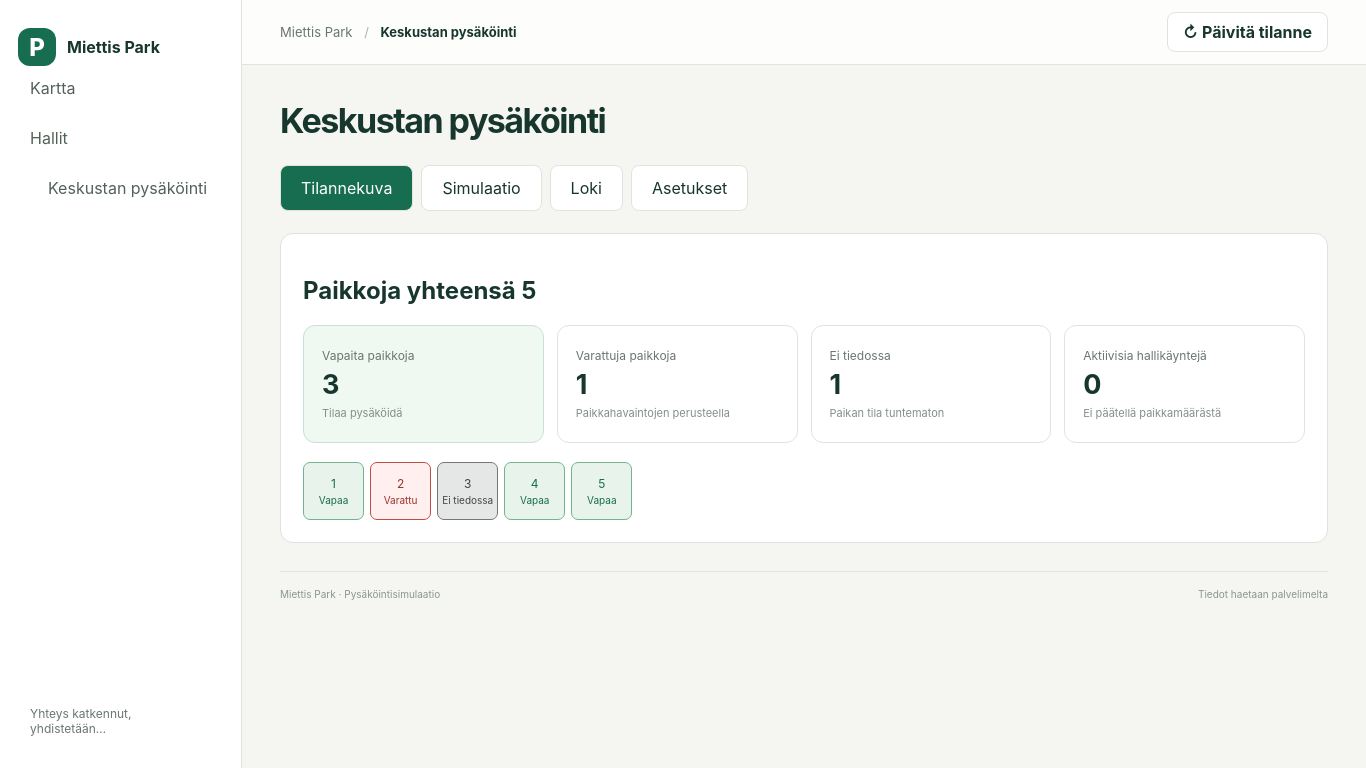
starts with overview and exposes garage navigation and the four detail tabs
The image size is (1366, 768).
Expected: the panel shows "Paikkoja yhteensä 5", [303,276,536,305]
Expected: the link to "/" reads "Kartta", [30,78,76,98]
Click the tab with id "tab-simulation" at (482, 188), box [421,165,542,211]
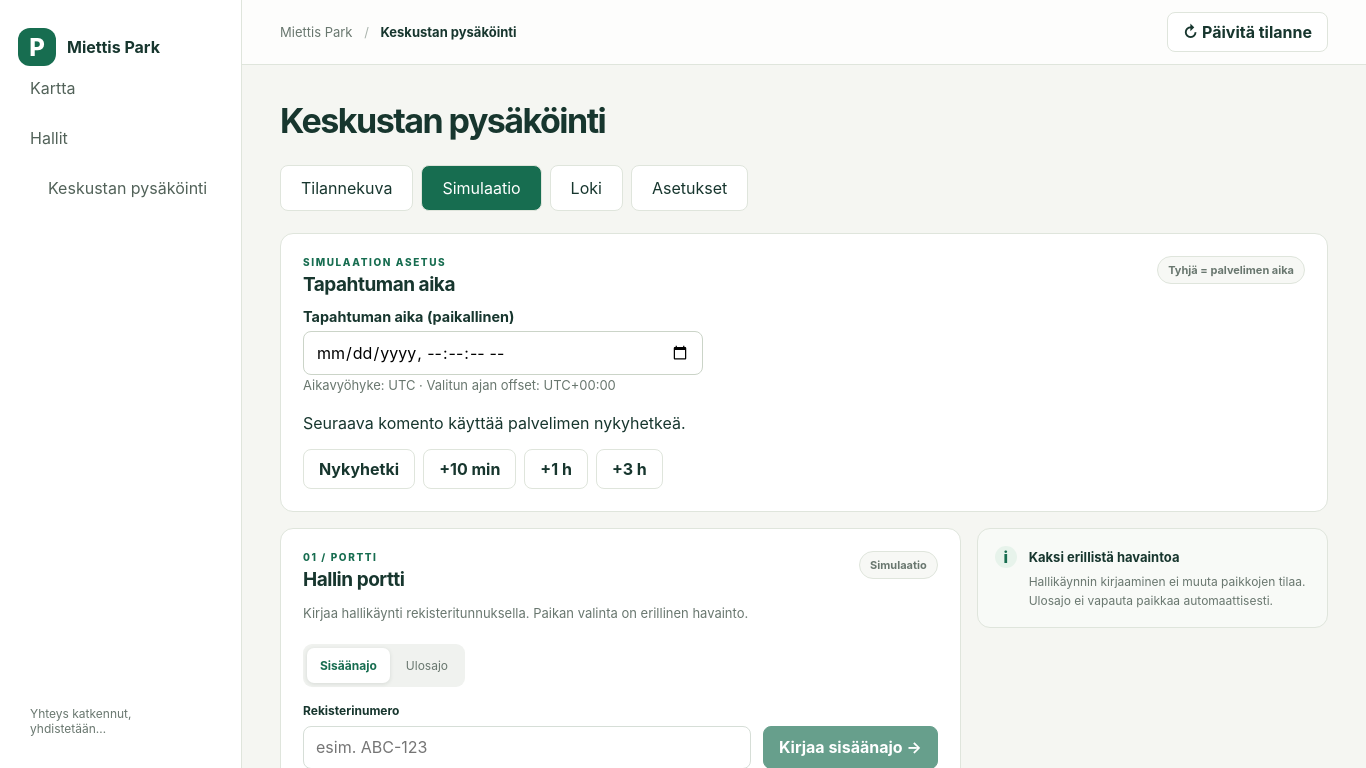
Type "TOAST-1" into the field with id "license-number" at (527, 747), box [303,726,751,767]
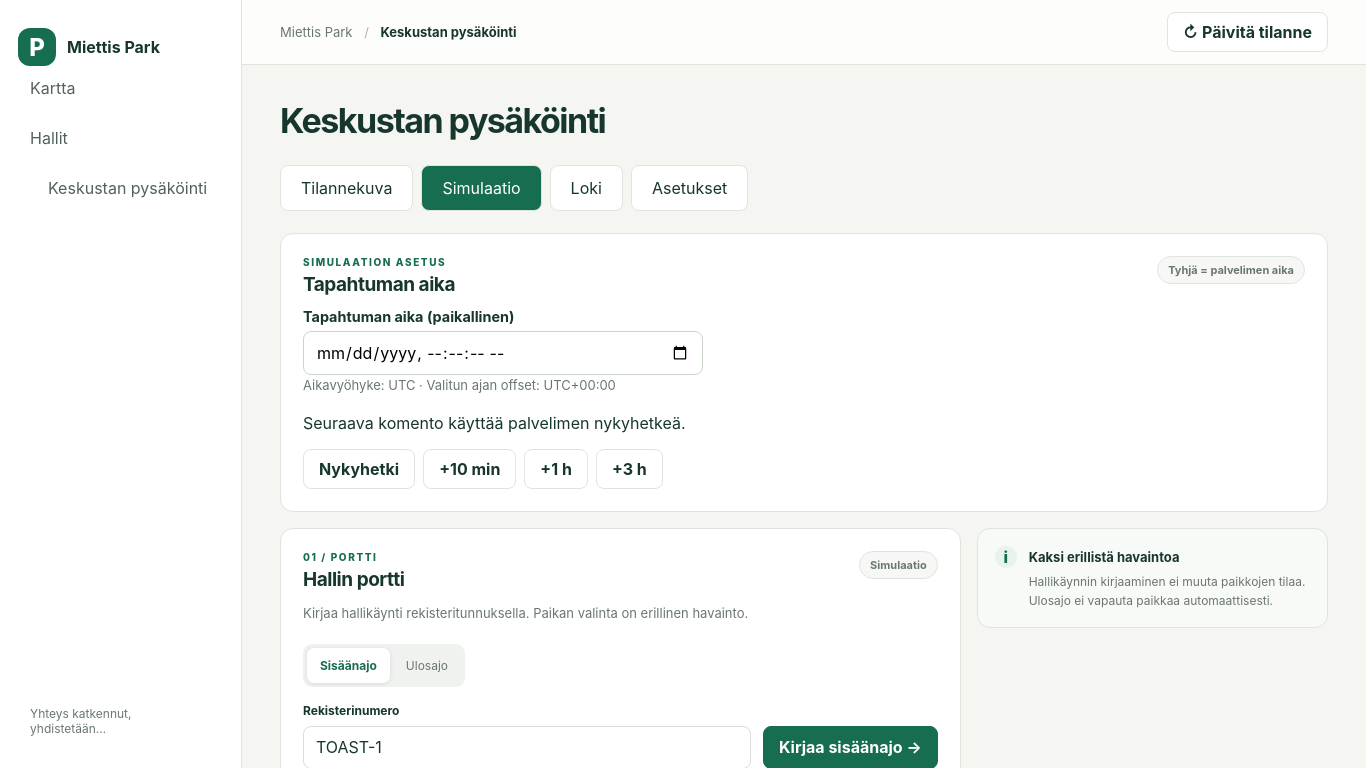
Submit the form with class "gate-form", box [303,703,938,767]
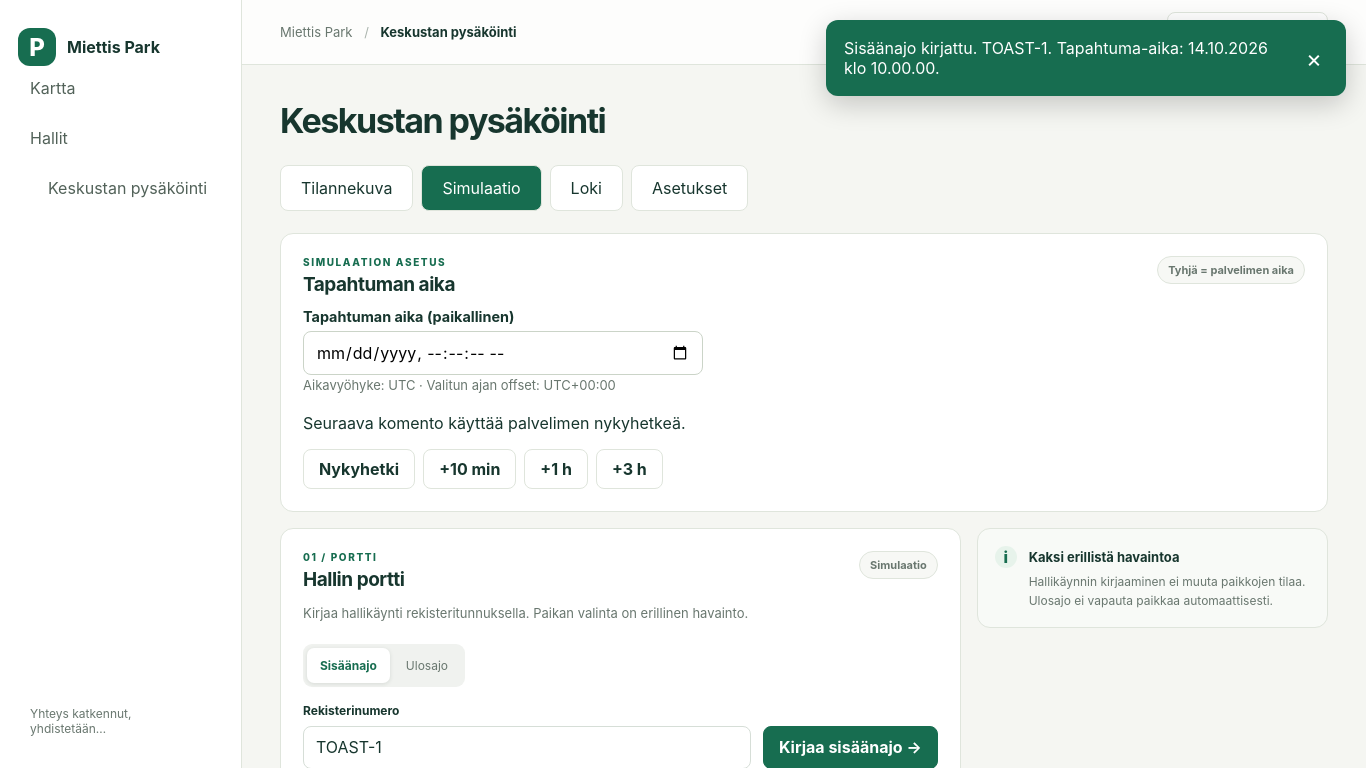
Expected: the message with class "success-toast" shows "Sisäänajo kirjattu", [844,38,1268,78]
